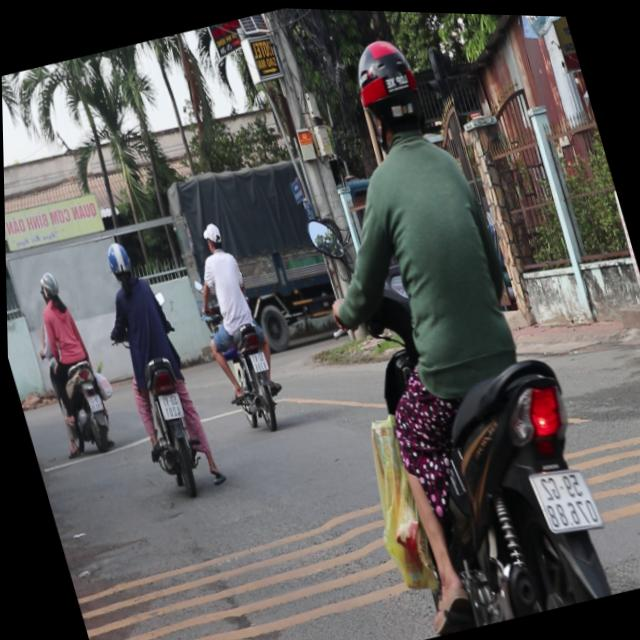helmet: (341, 26, 435, 152), (101, 236, 135, 284), (34, 265, 62, 305)
licenseplate: (243, 8, 624, 640), (84, 227, 224, 501), (175, 210, 292, 435), (16, 263, 119, 460)
motorcyclist: (198, 217, 224, 252)
nohelmet: (527, 458, 599, 532), (155, 389, 180, 417), (246, 348, 266, 370), (84, 392, 101, 411)
